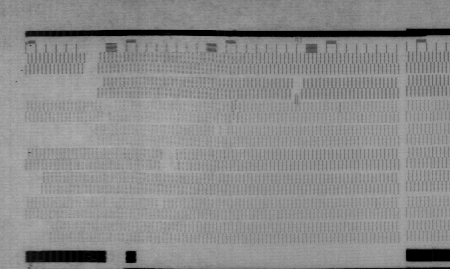Broken hole: (24, 72, 104, 99), (24, 119, 98, 148), (24, 217, 52, 245), (24, 168, 46, 197), (82, 52, 101, 78), (159, 149, 181, 171), (97, 99, 115, 122), (210, 124, 231, 136), (291, 76, 307, 91), (155, 198, 167, 210)
Oblique printing: (288, 89, 305, 106), (227, 111, 240, 124), (230, 99, 242, 113)
